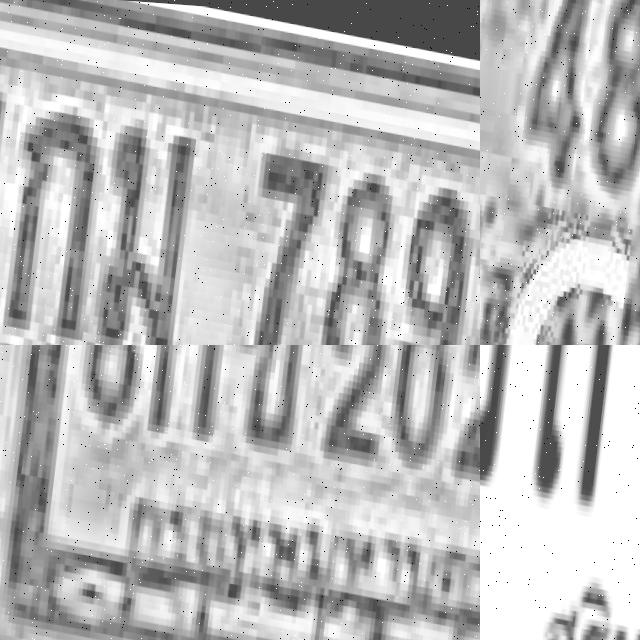license-plate: (0, 0, 480, 345), (0, 345, 480, 640), (480, 0, 640, 345), (480, 345, 640, 640)
